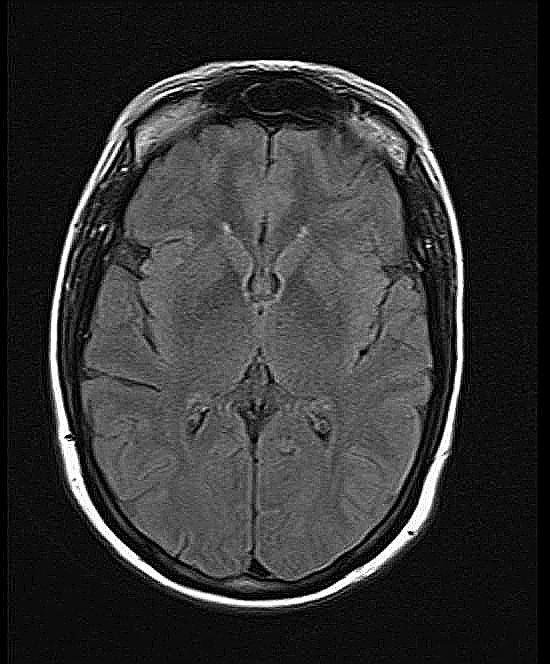Normal_Brain: (3, 9, 550, 664)
